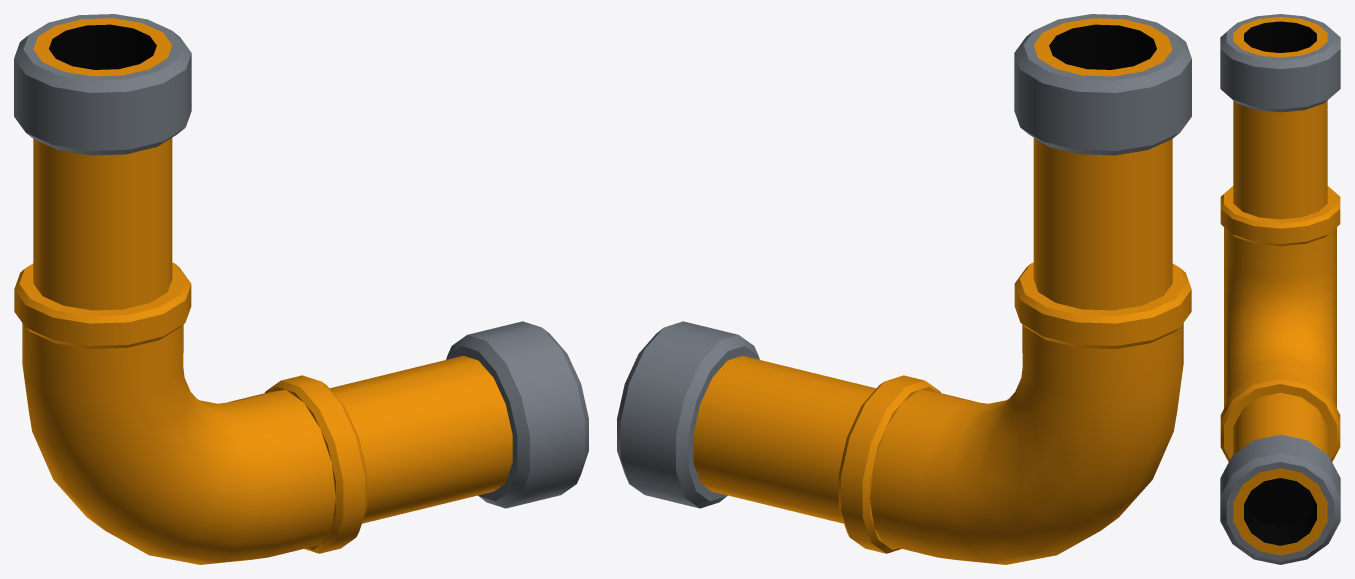
Rendered from GasPipeElbowUp.obj.
3 renders of one model, left to right at view 1: azimuth 30°, elevation 25°; view 2: azimuth 150°, elevation 25°; view 3: azimuth 270°, elevation 25°, orthographic. The views are drawn at different scales.
Parts seen in each view (by area): view 1: GasPipeElbowUp; view 2: GasPipeElbowUp; view 3: GasPipeElbowUp.
Boxes of the visible parts, box(x1,y1,x2,y2) form: GasPipeElbowUp: box(14, 14, 588, 564); GasPipeElbowUp: box(617, 14, 1191, 564); GasPipeElbowUp: box(1220, 14, 1340, 564).
Size of the model in its own units: 0.1173 by 0.1173 by 0.0336.
